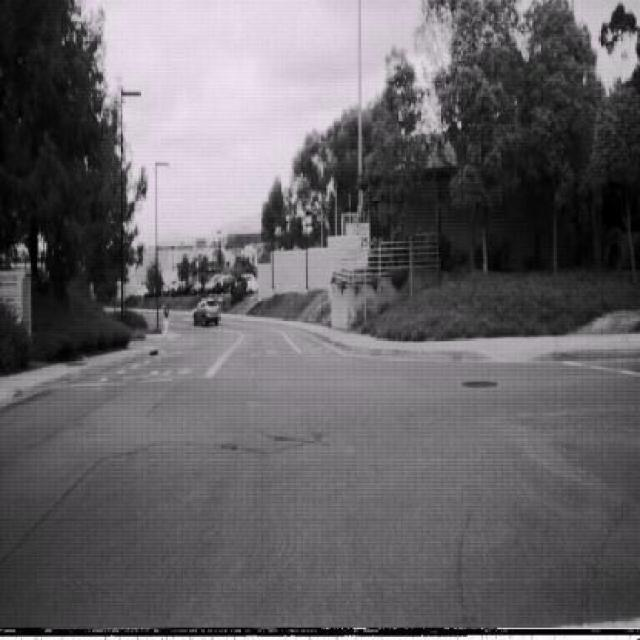speedLimit25: (358, 222, 369, 250)
